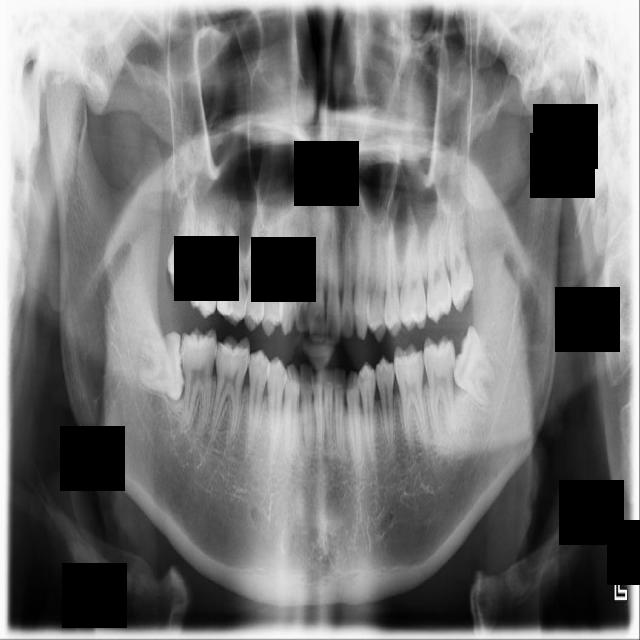3M ESPE Implant: (164, 178, 205, 298)
52: (212, 273, 252, 328)
73: (599, 562, 603, 572)
BioHorizons Implant: (426, 209, 455, 324)
BioLife Implant: (445, 206, 475, 312)
Biomet 3i Implant: (437, 324, 509, 416)
Blue Sky Bio Implant: (422, 333, 463, 442)
Caries: (187, 213, 221, 318)
Implant: (178, 327, 217, 433)
Keystone Dental Implant: (136, 329, 187, 405)
